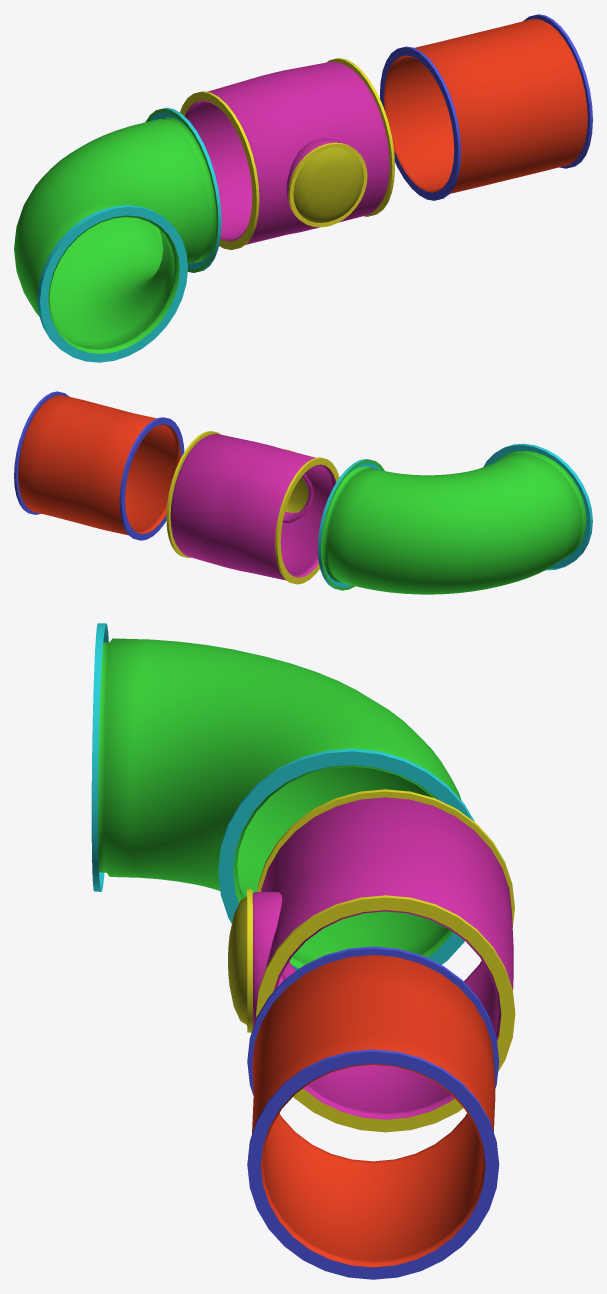
Rendered from tubi.fbx.
3 renders of one model, top to bottom at view 1: azimuth 30°, elevation 25°; view 2: azimuth 150°, elevation 25°; view 3: azimuth 270°, elevation 25°, orthographic. The views are drawn at different scales.
Visible parts, largest first — view 1: tubo3.1, tubo1, tubo2; view 2: tubo3.1, tubo2, tubo1; view 3: tubo3.1, tubo1, tubo2.
Part boxes in pixels (<box>): tubo3.1: <box>14,107,221,362</box>; tubo1: <box>379,14,592,200</box>; tubo2: <box>180,58,394,249</box>; tubo3.1: <box>317,443,592,594</box>; tubo2: <box>166,431,339,584</box>; tubo1: <box>14,391,184,540</box>; tubo3.1: <box>91,623,474,970</box>; tubo1: <box>247,946,499,1279</box>; tubo2: <box>228,789,515,1132</box>.
Bounding box in the file's own units: 1739 × 422 × 665.
